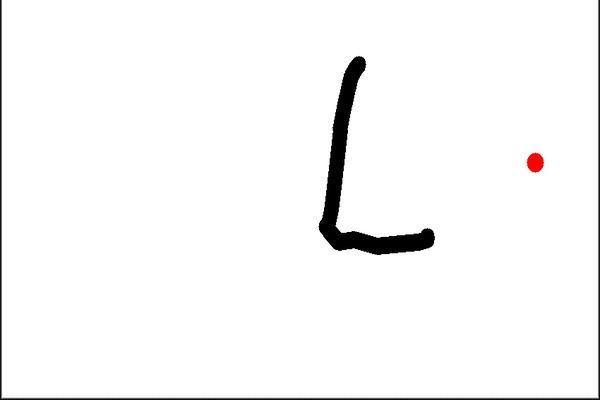L: (311, 46, 441, 260)
